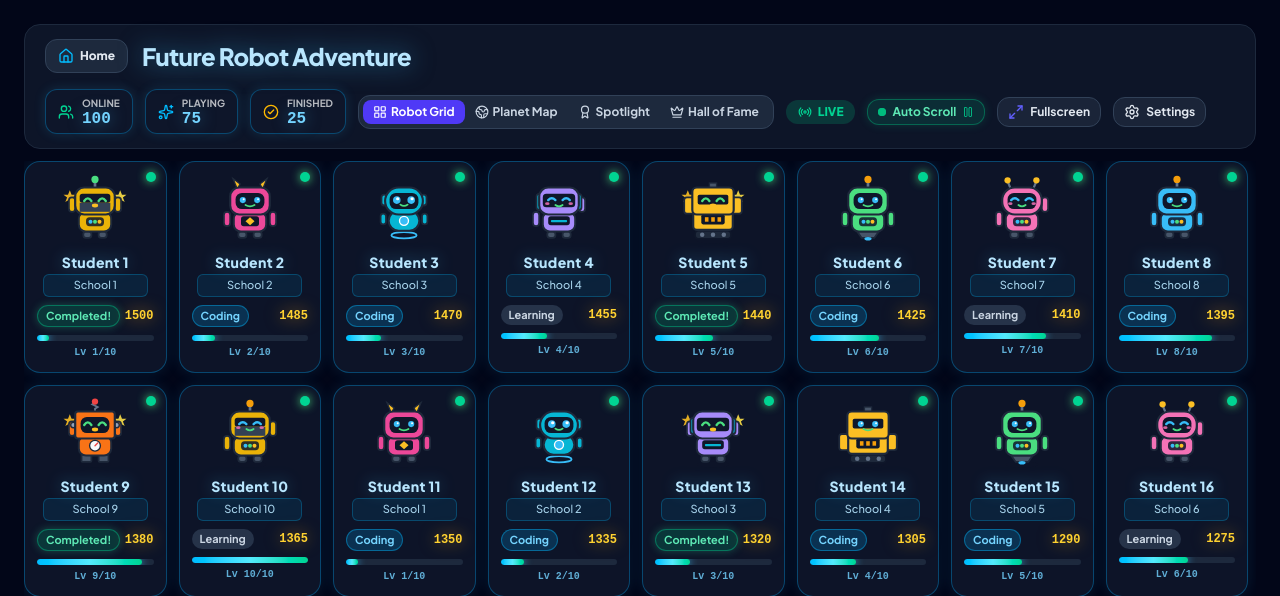
DashboardView with 100 simultaneous players › paginates 100 players cleanly, renders leaderboard, and switches display modes
Note: Switch to Planet Map
Click the button "Planet Map" at (516, 112), box [464, 100, 568, 124]
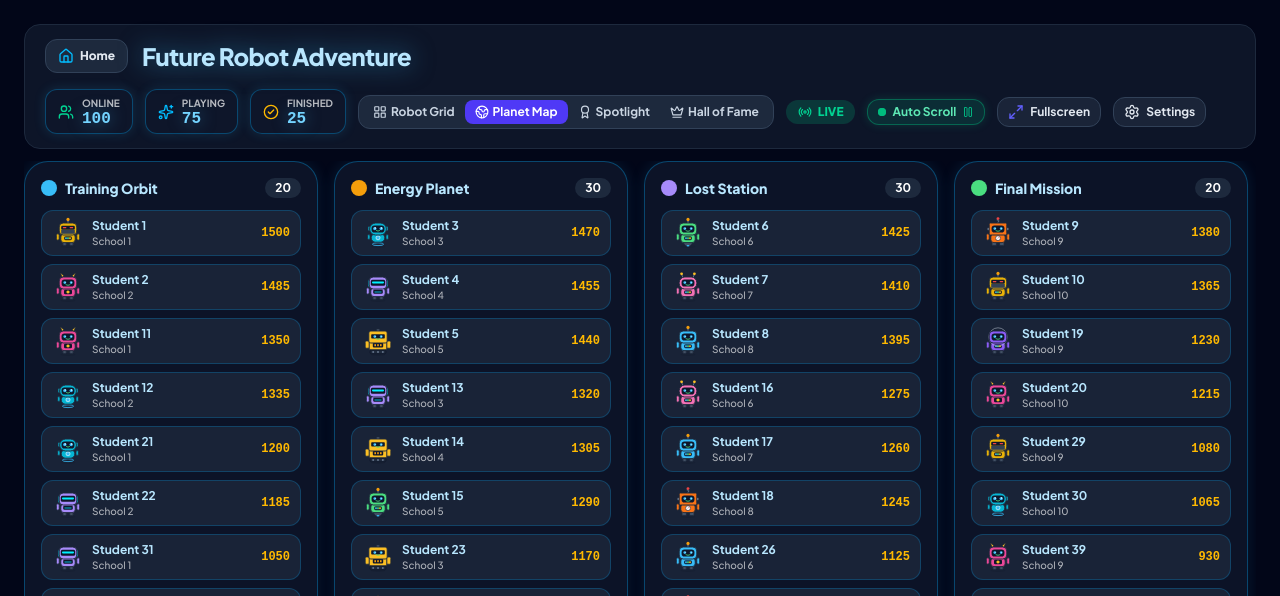
Check: the heading "Training Orbit" is shown, box [65, 178, 158, 198]
Check: the heading "Final Mission" is shown, box [995, 178, 1082, 198]
Note: Switch to Spotlight
Click the button "Spotlight" at (614, 112), box [568, 100, 660, 124]
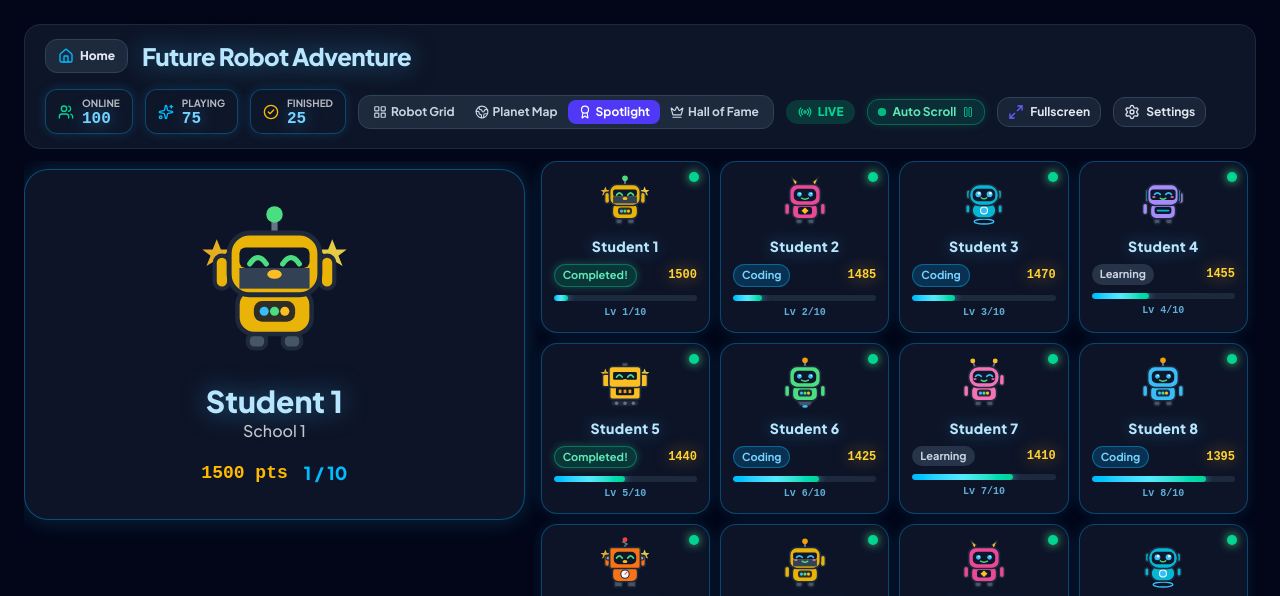
Check: the element with test id "dashboard-robot-card" is shown, box [541, 161, 710, 332]
Note: Switch to Hall of Fame
Click the button with test id "dashboard-mode-HALL_OF_FAME" at (714, 112), box [660, 100, 769, 124]
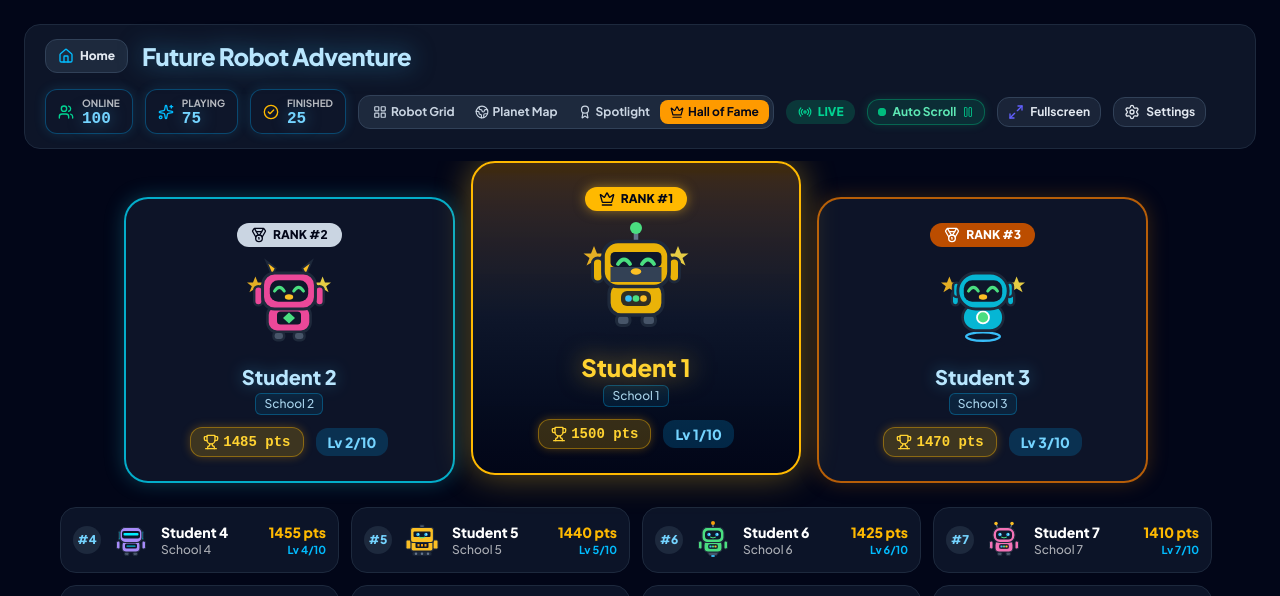
Check: the text "RANK #1" is shown, box [585, 187, 687, 211]
Check: the text "RANK #2" is shown, box [237, 223, 342, 247]
Check: the text "RANK #3" is shown, box [930, 223, 1035, 247]
Click the button with test id "dashboard-autoscroll-toggle" at (926, 112), box [868, 98, 985, 124]
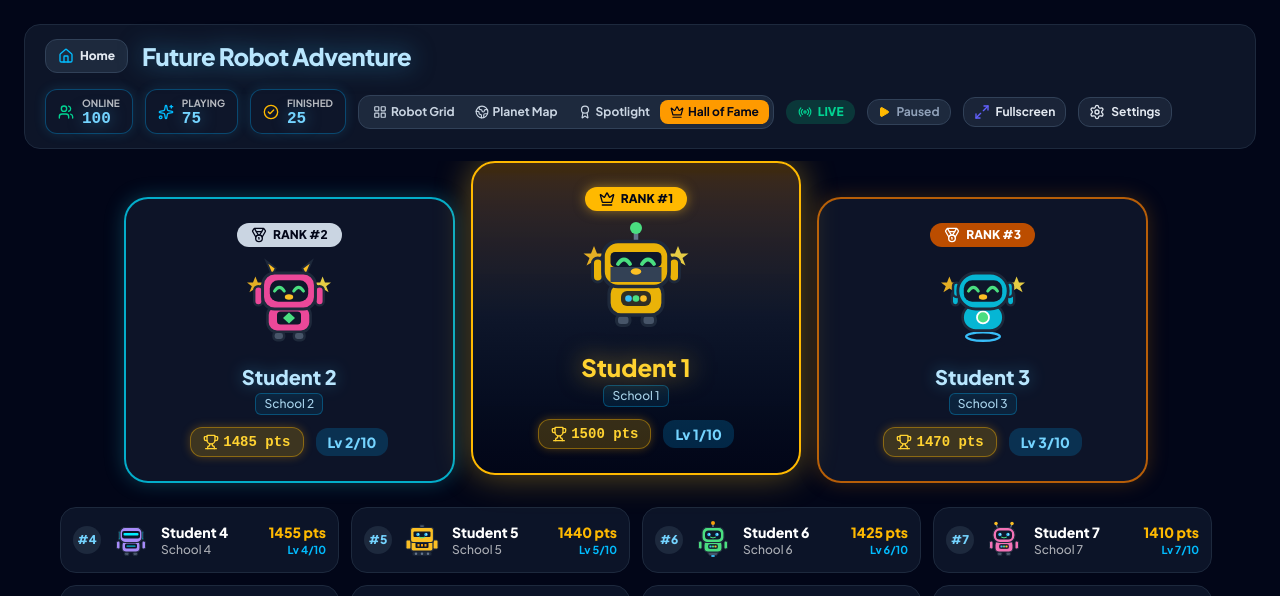
Check: the text "Paused" is shown, box [896, 104, 940, 120]
Click the button with test id "dashboard-autoscroll-toggle" at (909, 112), box [868, 98, 950, 124]
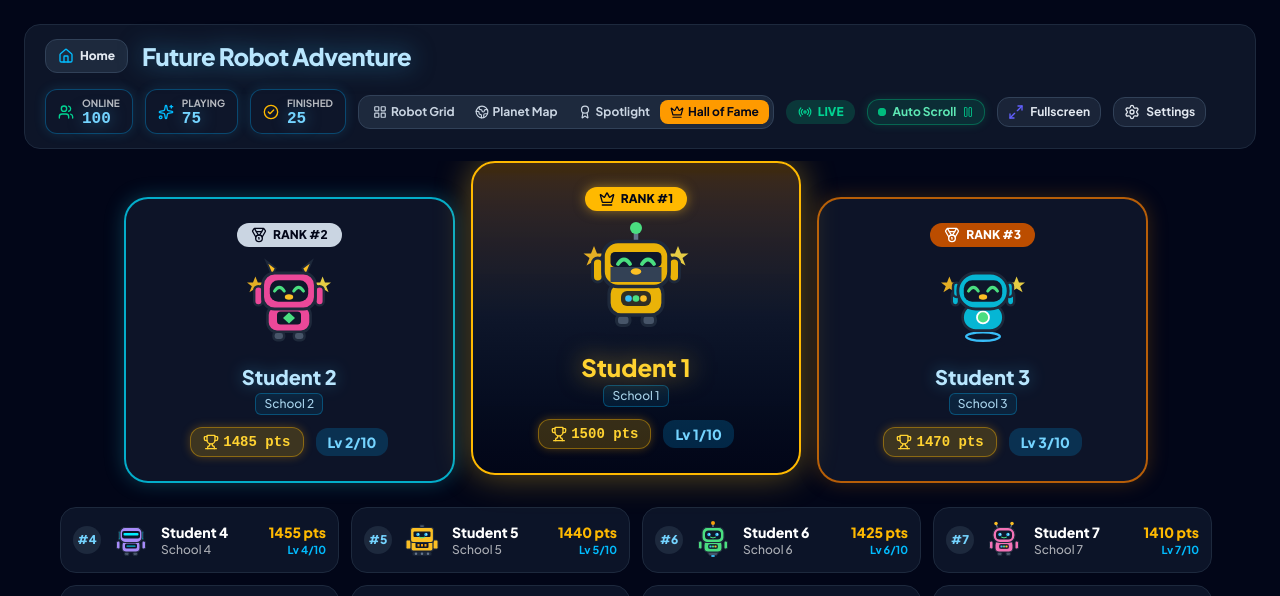
Check: the text "Auto Scroll" is shown, box [892, 104, 956, 120]
